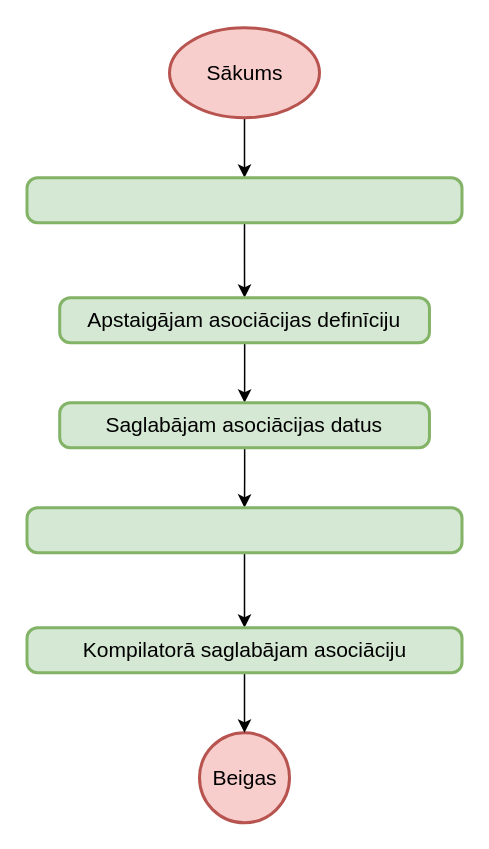
Image size: 489x849. Some labels were removed from this diagram. The shapes that lost their labels are listed below. From the top down, each one's box as (x1, y1, x2, y2) in pixels, then its label:
(25, 176, 463, 224): Sagatavojam pagaidu asociācijas instances
(25, 506, 463, 554): Klasēs saglabājam asociāciju galapunktus
